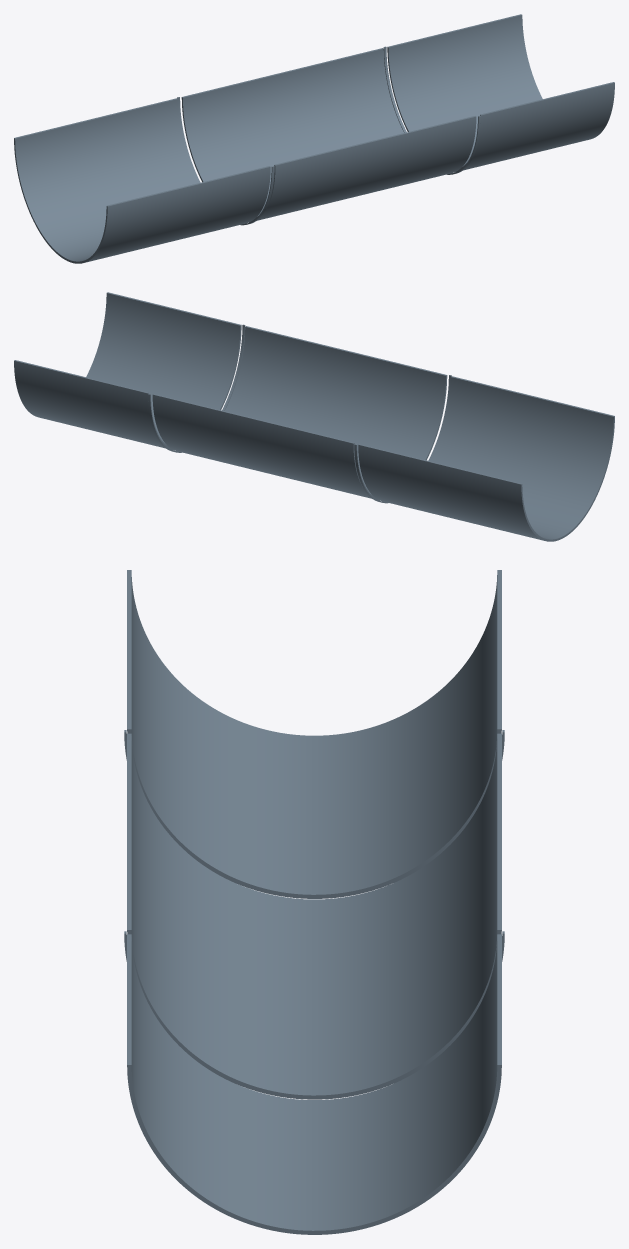
Rendered from bypass-nacelle-panels.glb.
The picture shows the model from 3 angles, top to bottom: view 1: azimuth 30°, elevation 25°; view 2: azimuth 150°, elevation 25°; view 3: azimuth 270°, elevation 25°; orthographic projection. The views are drawn at different scales.
Parts seen in each view (by area): view 1: bypass-nacelle-panels - shell; view 2: bypass-nacelle-panels - shell; view 3: bypass-nacelle-panels - shell.
Boxes of the visible parts, <box> form: bypass-nacelle-panels - shell: <box>14,14,614,263</box>; bypass-nacelle-panels - shell: <box>14,292,614,541</box>; bypass-nacelle-panels - shell: <box>124,570,504,1234</box>.
Bounding box in the file's own units: 6.44 × 1.08 × 2.09.
